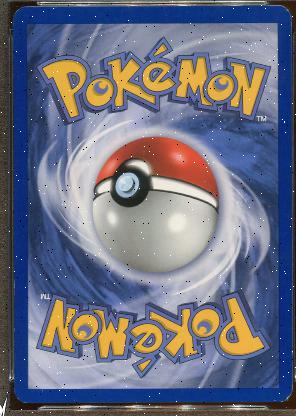Card: (11, 5, 293, 405)
Corner Wear: (271, 383, 291, 403), (13, 388, 27, 404)
Edge Wear: (279, 5, 291, 27), (13, 278, 14, 296), (13, 327, 14, 335)
Scratch: (266, 205, 271, 209)
